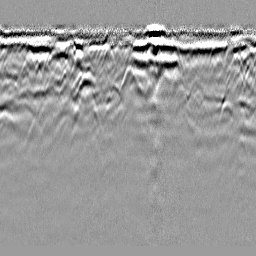cavity: (119, 63, 142, 93)
